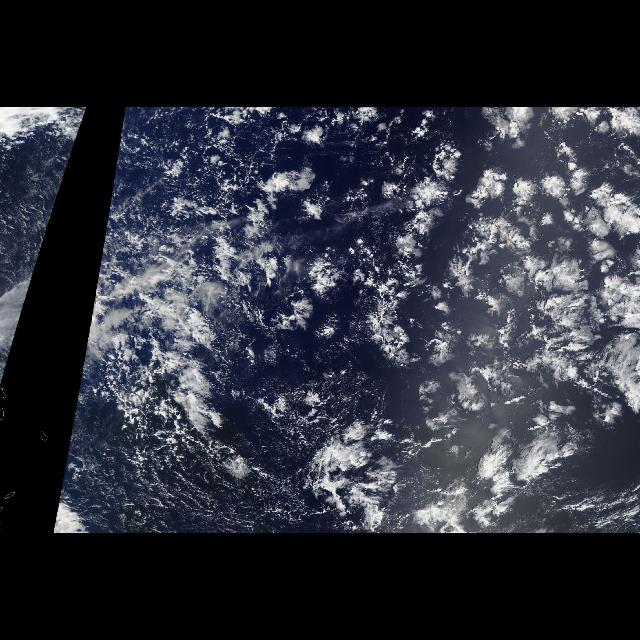Flower: (260, 148, 640, 440)
Gravel: (118, 116, 338, 342)
